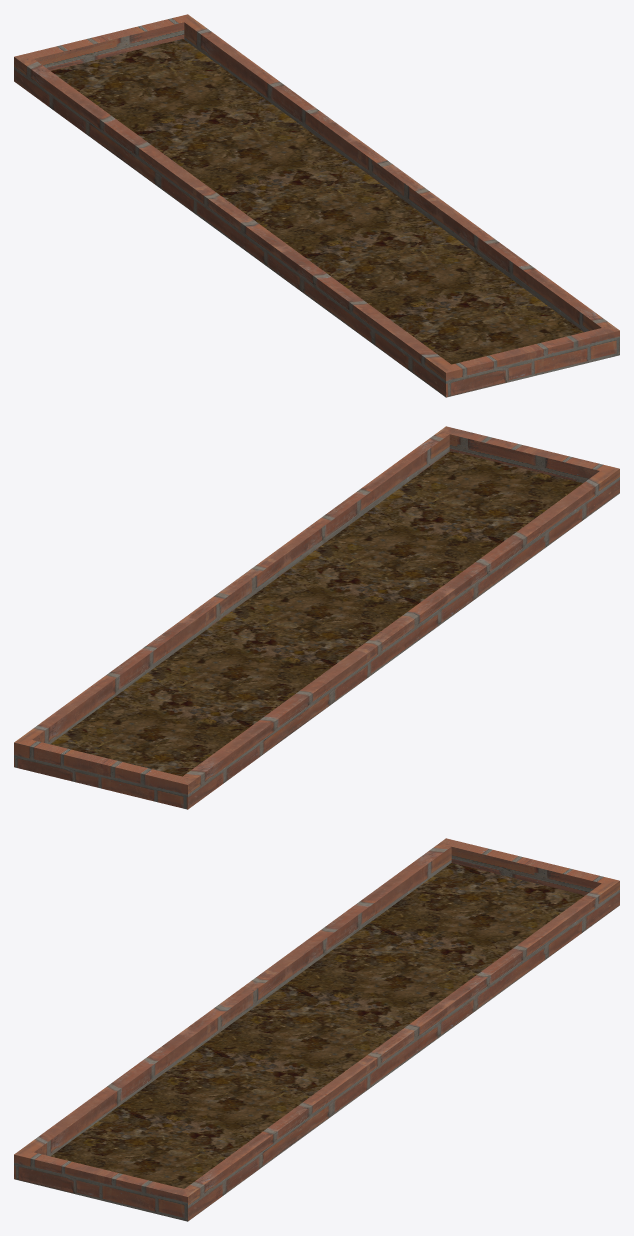
The model's file is plantpot.gltf.
3 views of the same model, one above another, from view 1: azimuth 30°, elevation 25°; view 2: azimuth 150°, elevation 25°; view 3: azimuth 330°, elevation 25° (orthographic).
Visible parts, largest first — view 1: plantpot; view 2: plantpot; view 3: plantpot.
Boxes of the visible parts, box(x1,y1,x2,y2) form: plantpot: box(14, 14, 619, 397); plantpot: box(14, 426, 619, 809); plantpot: box(14, 838, 619, 1221).
Size of the model in its own units: 2.33 by 0.3156 by 10.02.
Materials: 2 (2 with a texture image).
